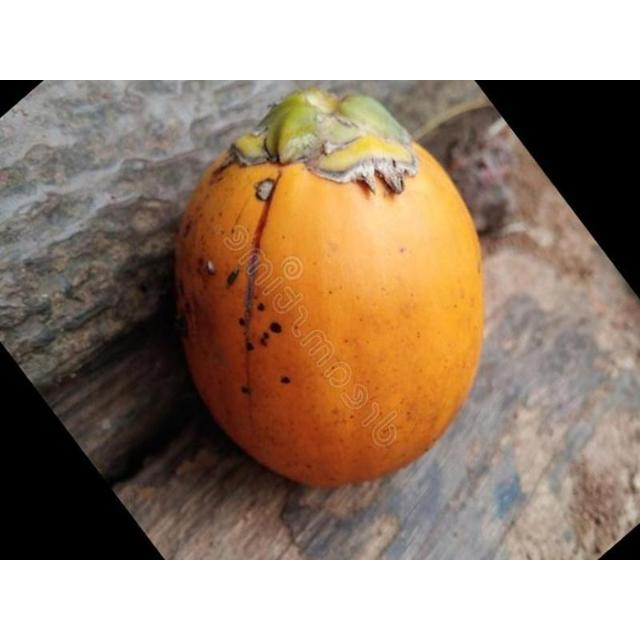good: (173, 89, 486, 490)
